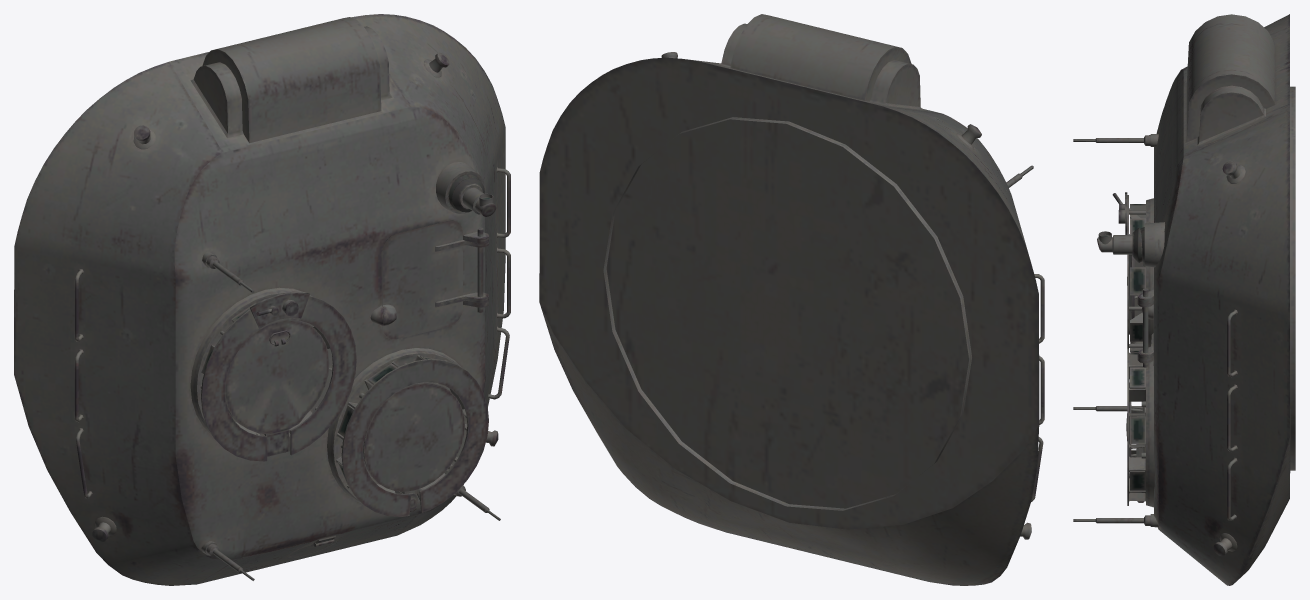
File: Turret_01.glb
3 renders of one model, left to right at view 1: azimuth 30°, elevation 25°; view 2: azimuth 150°, elevation 25°; view 3: azimuth 270°, elevation 25°, orthographic. The views are drawn at different scales.
Visible parts, largest first — view 1: set_0_group_0; view 2: set_0_group_0; view 3: set_0_group_0.
Part boxes in pixels (x1,y1,x2,y2): set_0_group_0: (14, 14, 510, 585); set_0_group_0: (539, 14, 1044, 585); set_0_group_0: (1073, 14, 1295, 585).
Size of the model in its own units: 2.7 by 2.72 by 1.14.
1 material, 1 textured.
